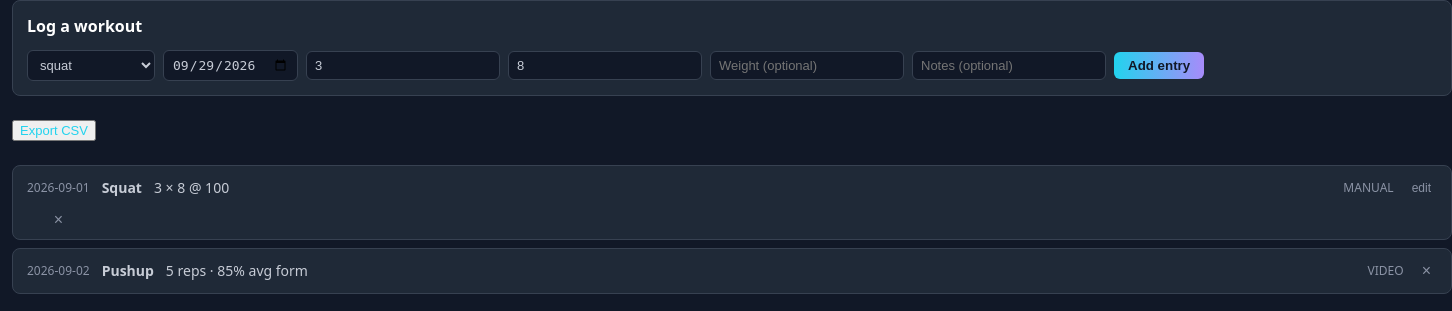
Scenario: HistoryView › removes an entry from the list when its delete button is clicked
Expected: the text "3 × 8 @ 100" is shown, [154, 178, 229, 197]
Step 1. Click the button named "Delete entry from 2026-09-01" → (58, 220), box [27, 211, 90, 229]
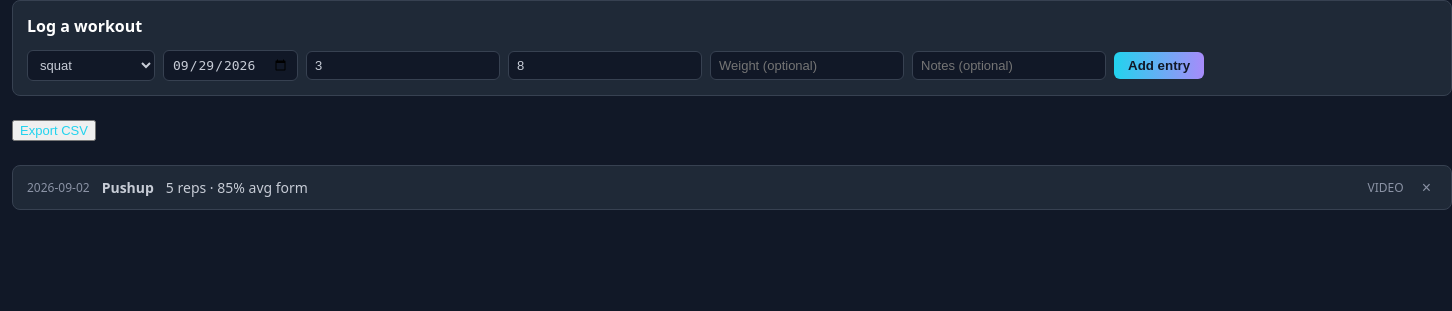
Expected: the text "3 × 8 @ 100" is gone
